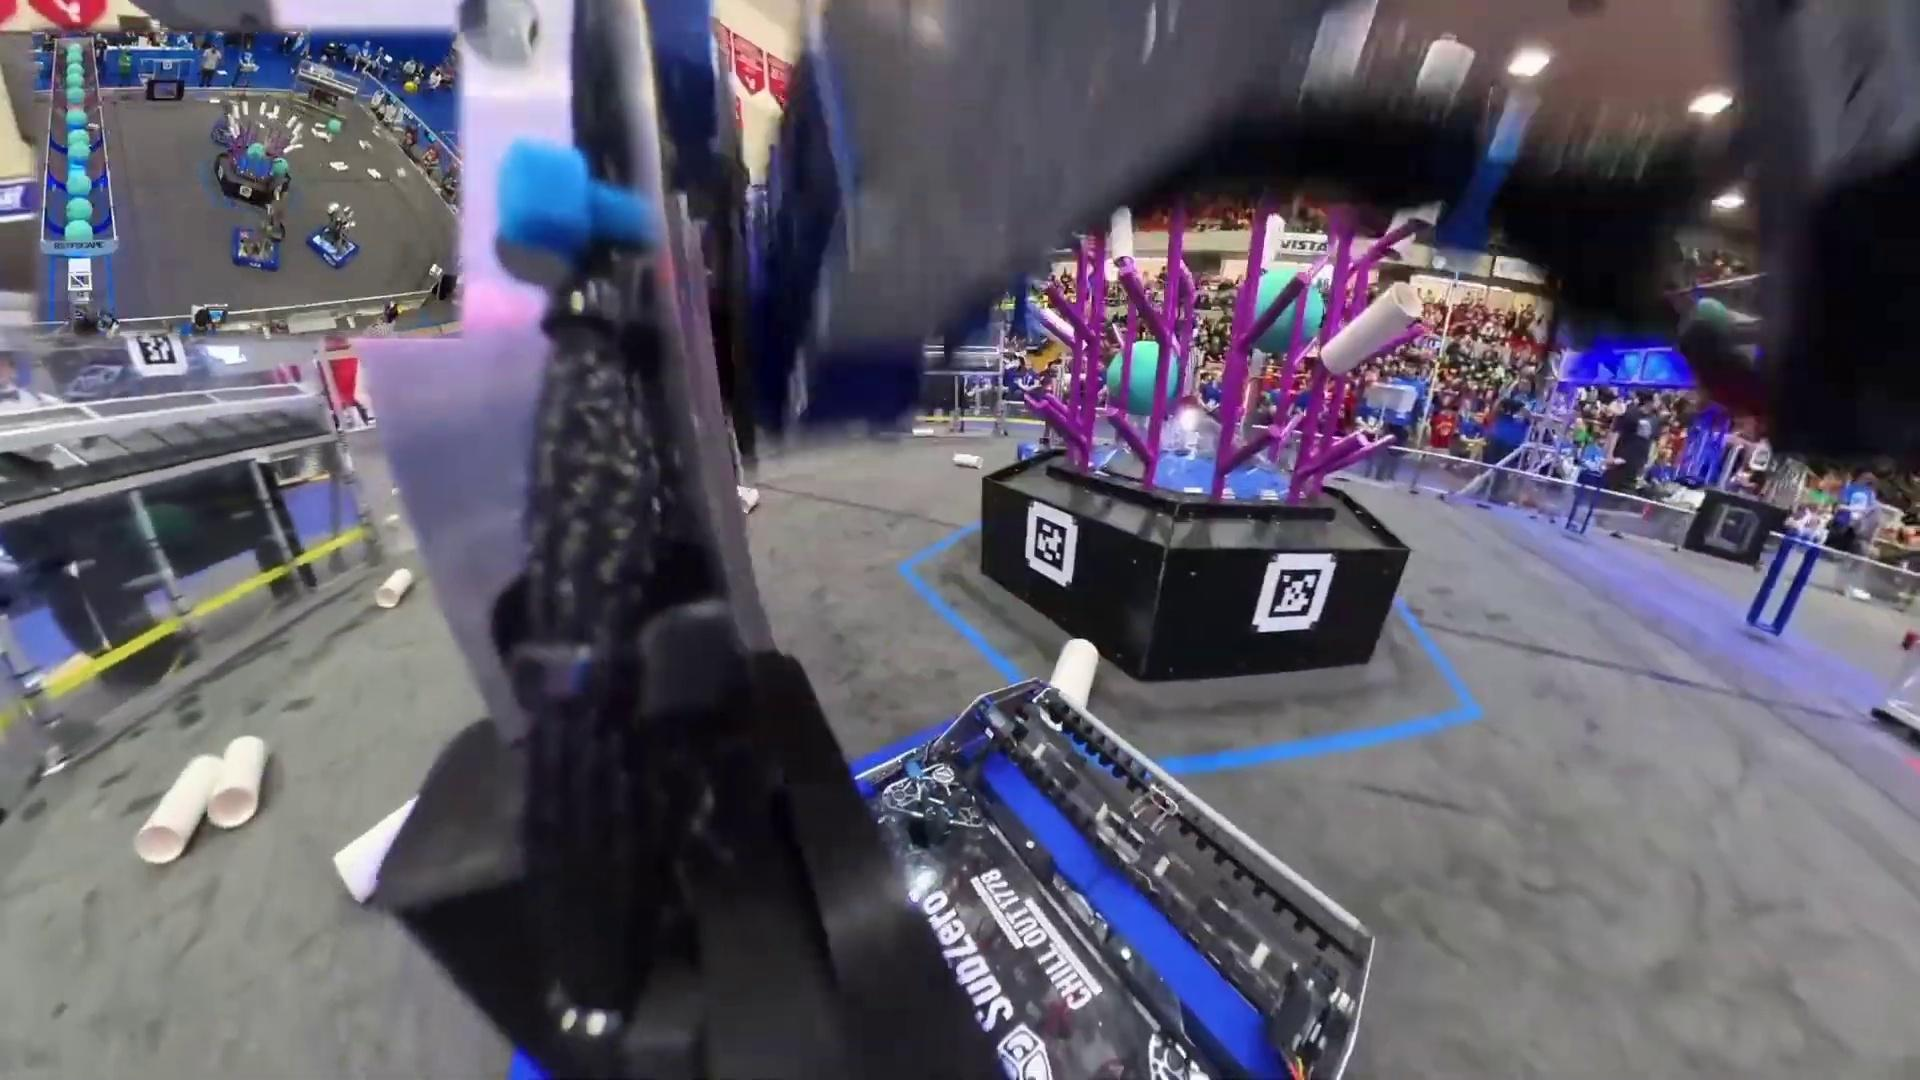robot: (231, 164, 298, 270), (306, 199, 360, 266), (211, 100, 235, 146)
